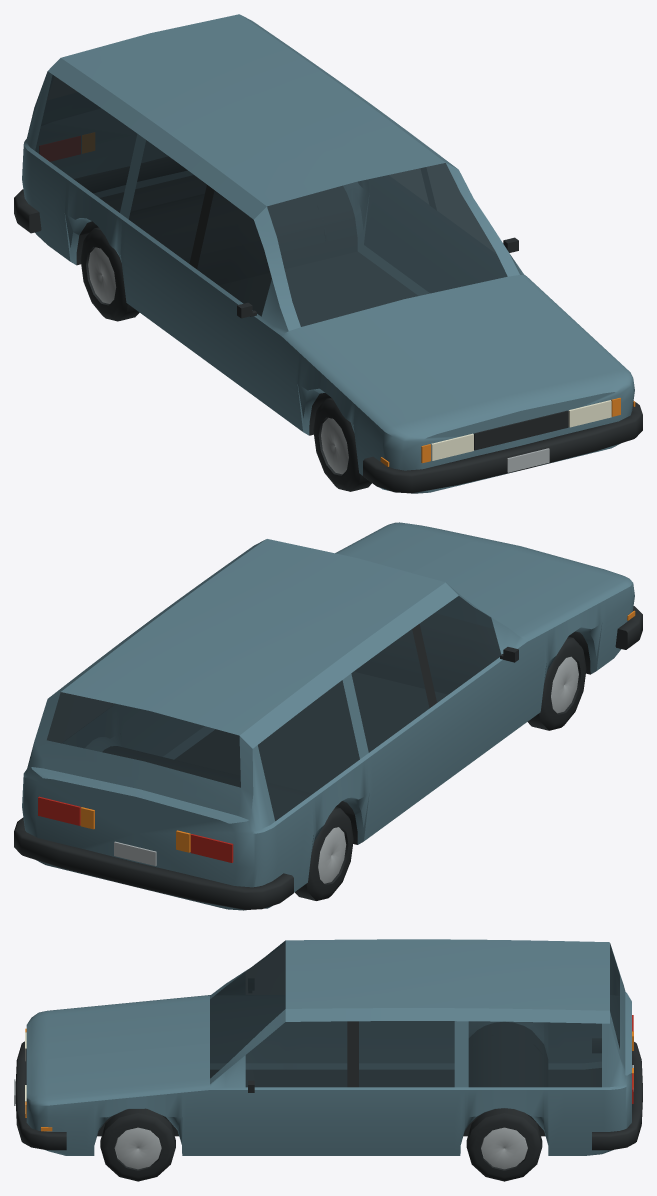
The model's file is customer-car-wagon-lite.glb.
3 views of the same model, one above another, from view 1: azimuth 30°, elevation 25°; view 2: azimuth 150°, elevation 25°; view 3: azimuth 270°, elevation 25° (orthographic). The views are drawn at different scales.
Visible parts, largest first — view 1: Wagon_BodyPaint, Wagon_WindowGlass, Wagon_RubberTrim, Wagon_WheelMetal, Wagon_Headlamp, Wagon_TailLamp, Wagon_AmberLens; view 2: Wagon_BodyPaint, Wagon_RubberTrim, Wagon_WindowGlass, Wagon_WheelMetal, Wagon_TailLamp, Wagon_AmberLens; view 3: Wagon_BodyPaint, Wagon_WindowGlass, Wagon_RubberTrim, Wagon_WheelMetal.
Boxes of the visible parts, box(x1,y1,x2,y2) form: Wagon_BodyPaint: box(22, 14, 634, 493); Wagon_WindowGlass: box(35, 75, 507, 326); Wagon_RubberTrim: box(14, 157, 642, 493); Wagon_WheelMetal: box(88, 247, 549, 474); Wagon_Headlamp: box(431, 400, 611, 460); Wagon_TailLamp: box(39, 136, 80, 160); Wagon_AmberLens: box(82, 133, 635, 466); Wagon_BodyPaint: box(22, 522, 634, 910); Wagon_RubberTrim: box(14, 606, 642, 909); Wagon_WindowGlass: box(47, 596, 501, 820); Wagon_WheelMetal: box(114, 656, 578, 883); Wagon_TailLamp: box(38, 796, 233, 862); Wagon_AmberLens: box(80, 610, 635, 852); Wagon_BodyPaint: box(26, 939, 631, 1155); Wagon_WindowGlass: box(210, 940, 619, 1087); Wagon_RubberTrim: box(15, 1021, 642, 1181); Wagon_WheelMetal: box(14, 1065, 633, 1169).
Size of the model in its own units: 6.34 by 4.64 by 15.8.
